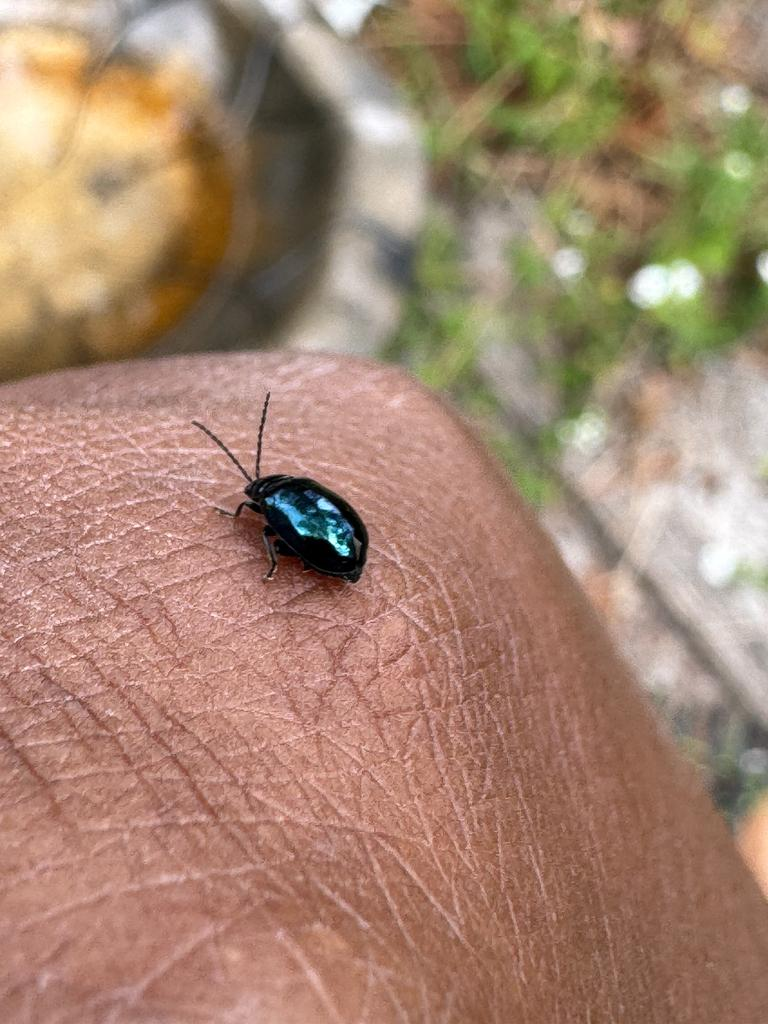flea_beetle: (158, 360, 443, 634)
